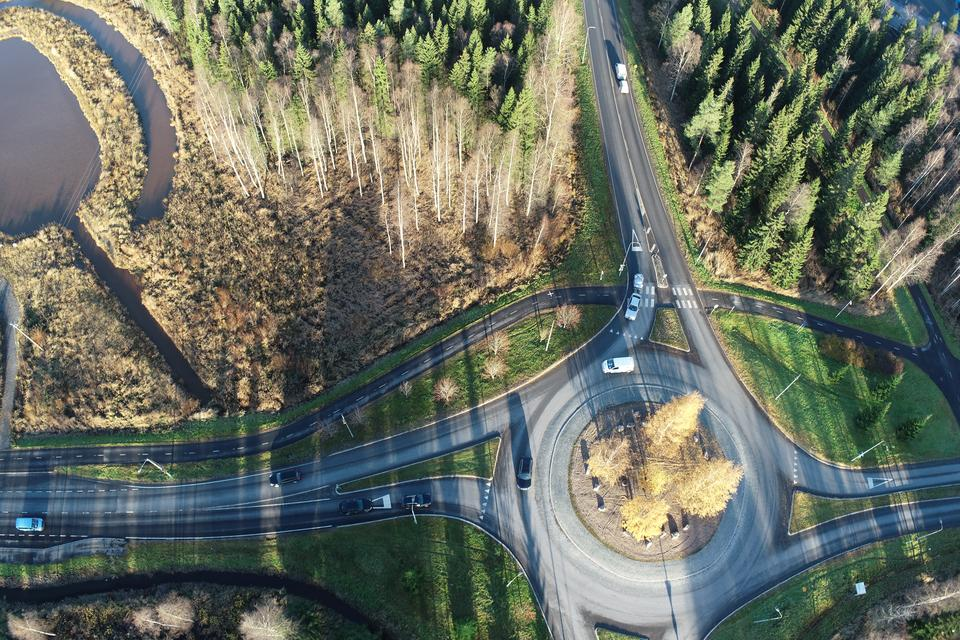intersection: (601, 276, 728, 320), (0, 400, 29, 512)
roundabout: (467, 326, 875, 640)
